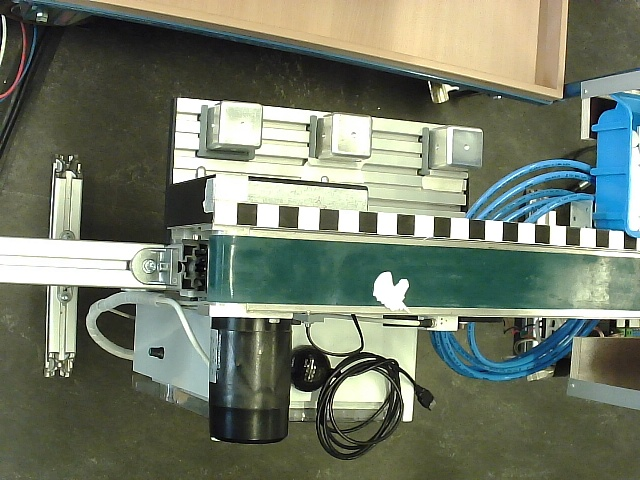unicorn: (371, 270, 411, 314)
